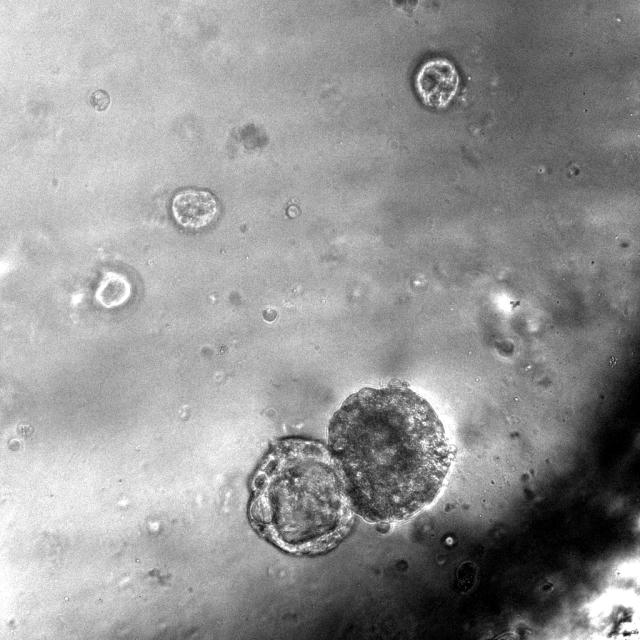organoid: (247, 385, 455, 555), (414, 58, 459, 110), (172, 188, 220, 230), (91, 89, 110, 110)
